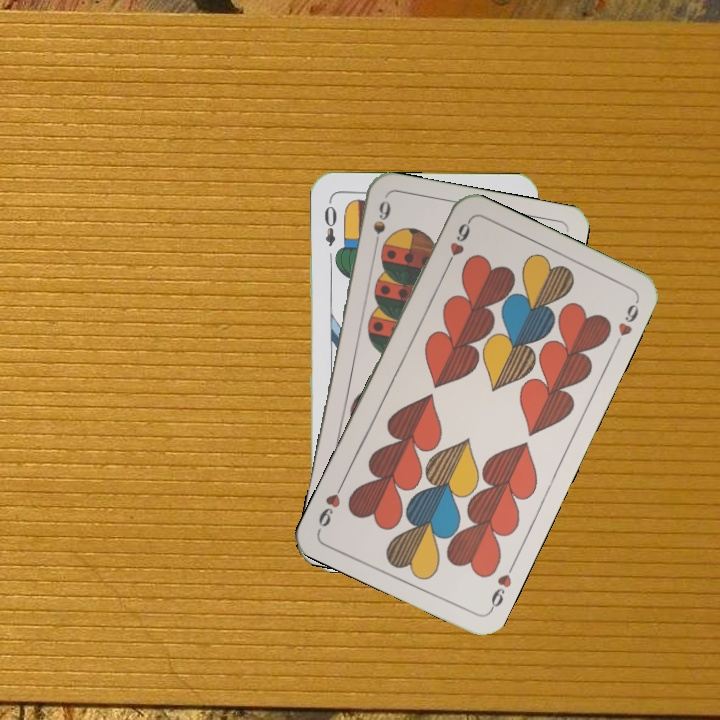EO: (320, 197, 340, 249)
H9: (485, 559, 518, 614), (441, 217, 473, 272)
S9: (369, 196, 394, 254)
